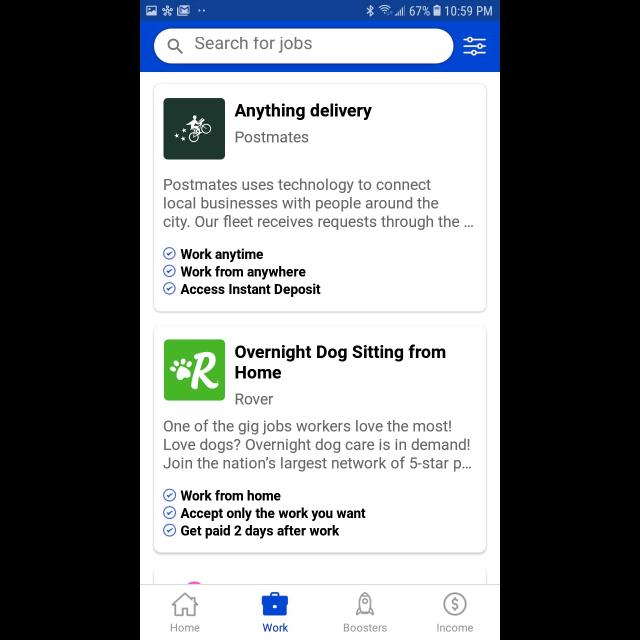icon: (172, 592, 198, 616), (262, 592, 288, 616), (443, 592, 467, 616), (464, 36, 486, 56), (168, 38, 184, 54), (163, 247, 175, 259), (163, 265, 175, 277), (163, 282, 175, 294), (163, 489, 175, 501), (163, 506, 175, 518), (163, 524, 175, 536)
image: (163, 98, 225, 160), (164, 340, 226, 400), (356, 592, 374, 616)
input: (154, 30, 454, 64)
text: (164, 420, 472, 472), (164, 180, 472, 230), (234, 345, 446, 379), (180, 507, 366, 521), (181, 525, 339, 539), (235, 104, 372, 120), (195, 37, 312, 53), (182, 266, 306, 278), (181, 284, 321, 294), (180, 248, 264, 260), (181, 490, 281, 500), (236, 132, 308, 142), (235, 393, 273, 405), (344, 624, 386, 632), (437, 624, 473, 632), (263, 622, 289, 632), (170, 624, 200, 632)
uppertaskbar: (140, 1, 500, 22)
